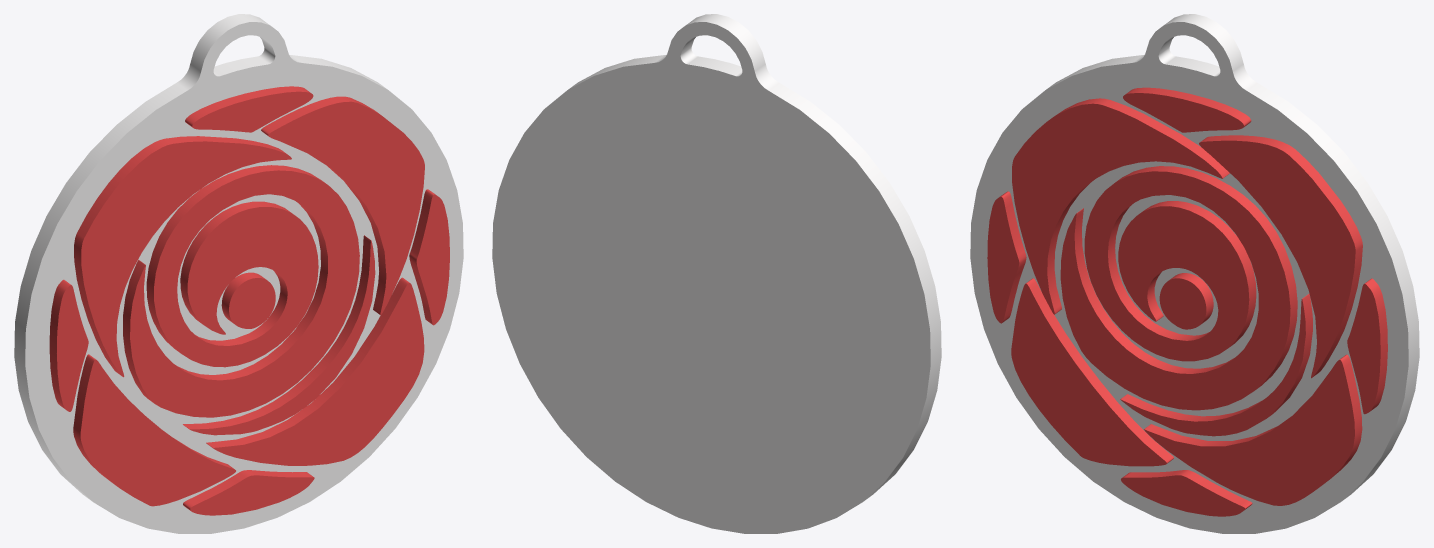
Rendered from Keychain spojnik.glb.
3 views of the same model, side by side, from view 1: azimuth 30°, elevation 25°; view 2: azimuth 150°, elevation 25°; view 3: azimuth 330°, elevation 25° (orthographic).
Visible parts, largest first — view 1: root; view 2: root; view 3: root.
Boxes of the visible parts, x1,y1,x2,y2 form: root: (14,14,463,533); root: (492,14,941,533); root: (970,14,1419,533).
Bounding box in the file's own units: 1.82 × 2 × 0.13.
